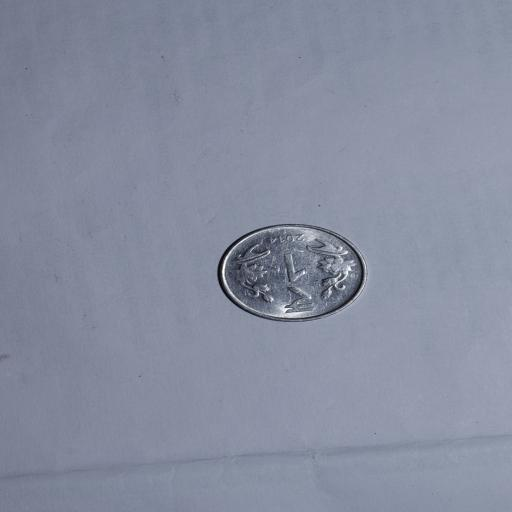rupee1: (212, 221, 369, 324)
